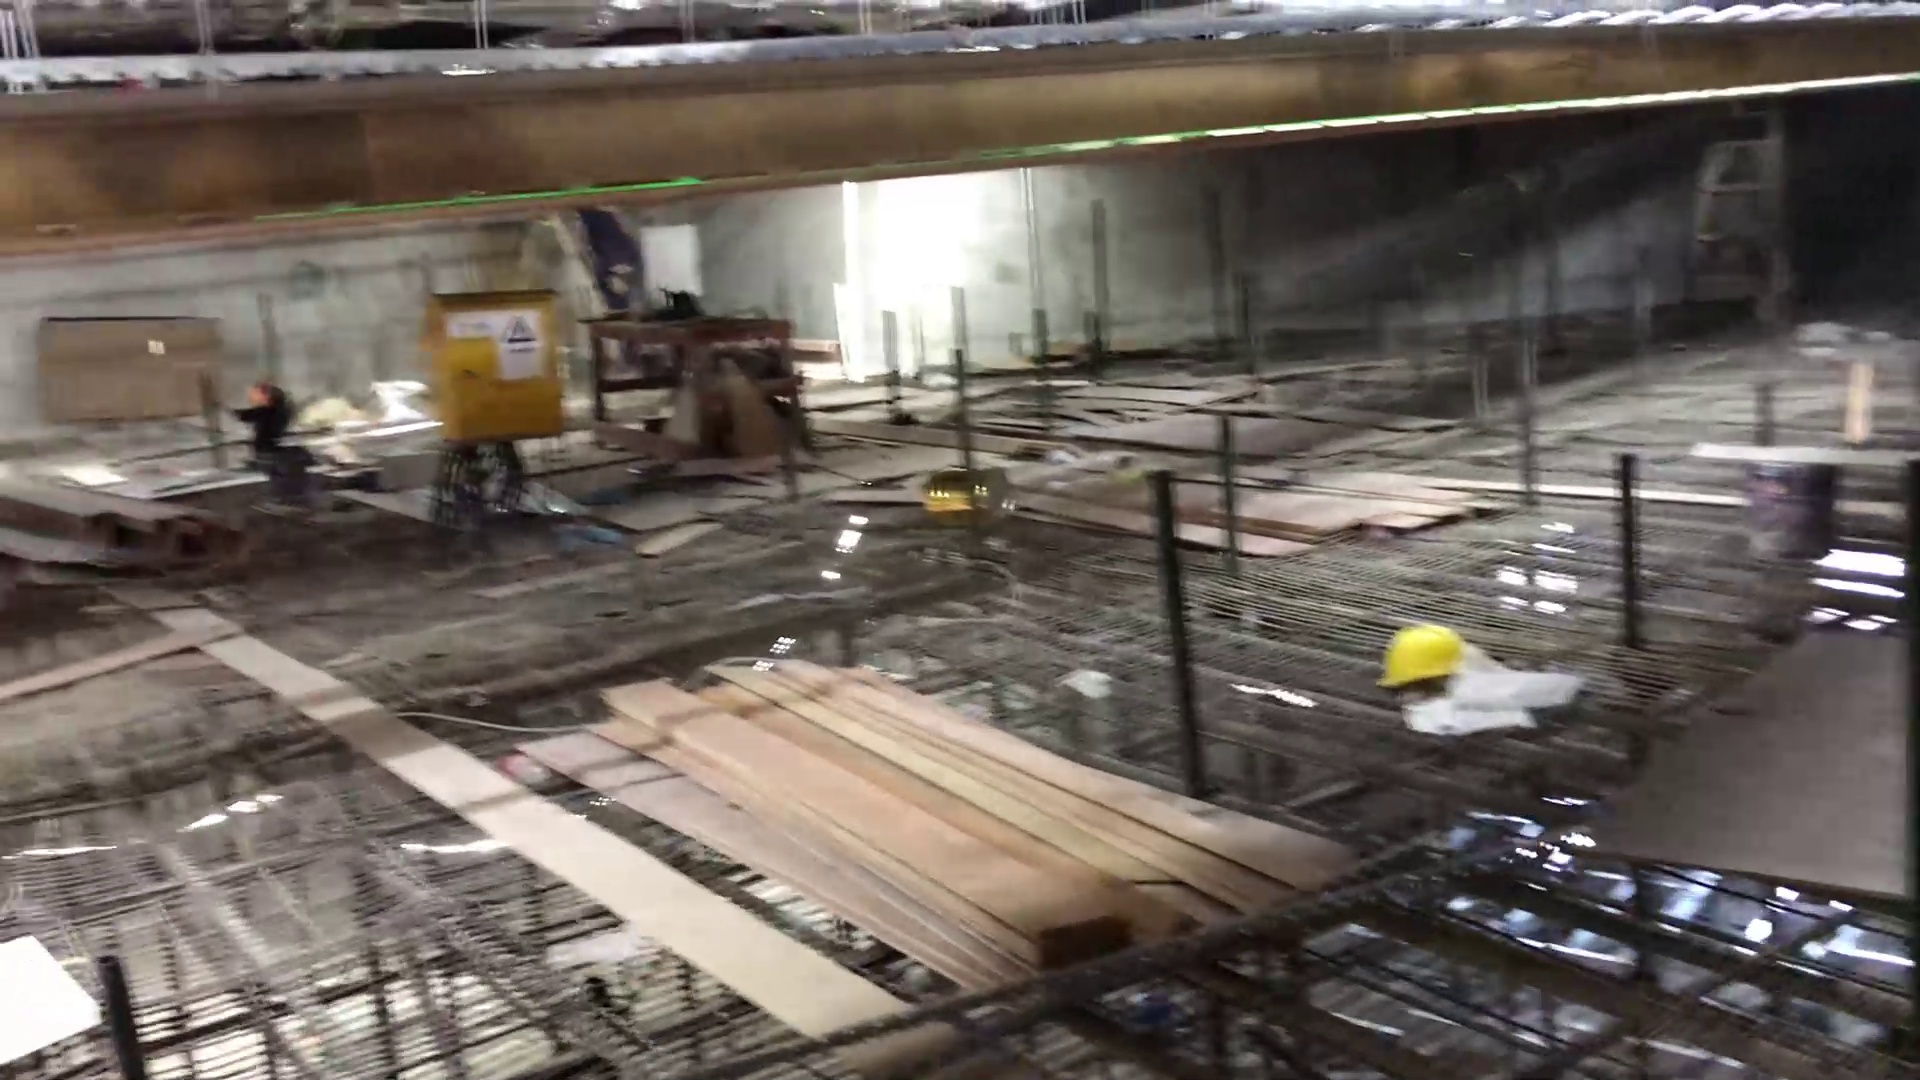board: (521, 659, 1374, 957)
cutter: (576, 303, 806, 459)
ebox: (407, 282, 584, 535)
helmet: (1377, 625, 1485, 696)
